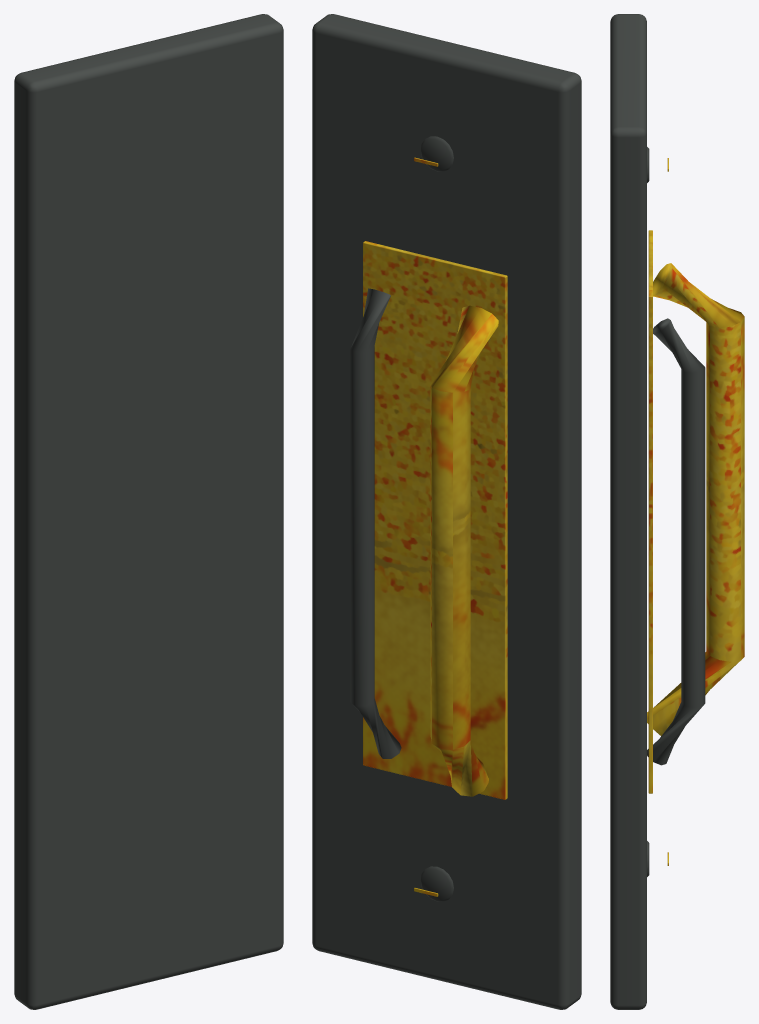
The model's file is door-hardware.fbx.
3 views of the same model, side by side, from view 1: azimuth 30°, elevation 25°; view 2: azimuth 150°, elevation 25°; view 3: azimuth 270°, elevation 25° (orthographic). The views are drawn at different scales.
Visible parts, largest first — view 1: door-hardware; view 2: door-hardware; view 3: door-hardware.
Part boxes in pixels (bbox=[...]): door-hardware: bbox=[14, 14, 283, 1009]; door-hardware: bbox=[312, 14, 581, 1009]; door-hardware: bbox=[610, 14, 744, 1009].
Size of the model in its own units: 6.1 by 21.1 by 2.92.
